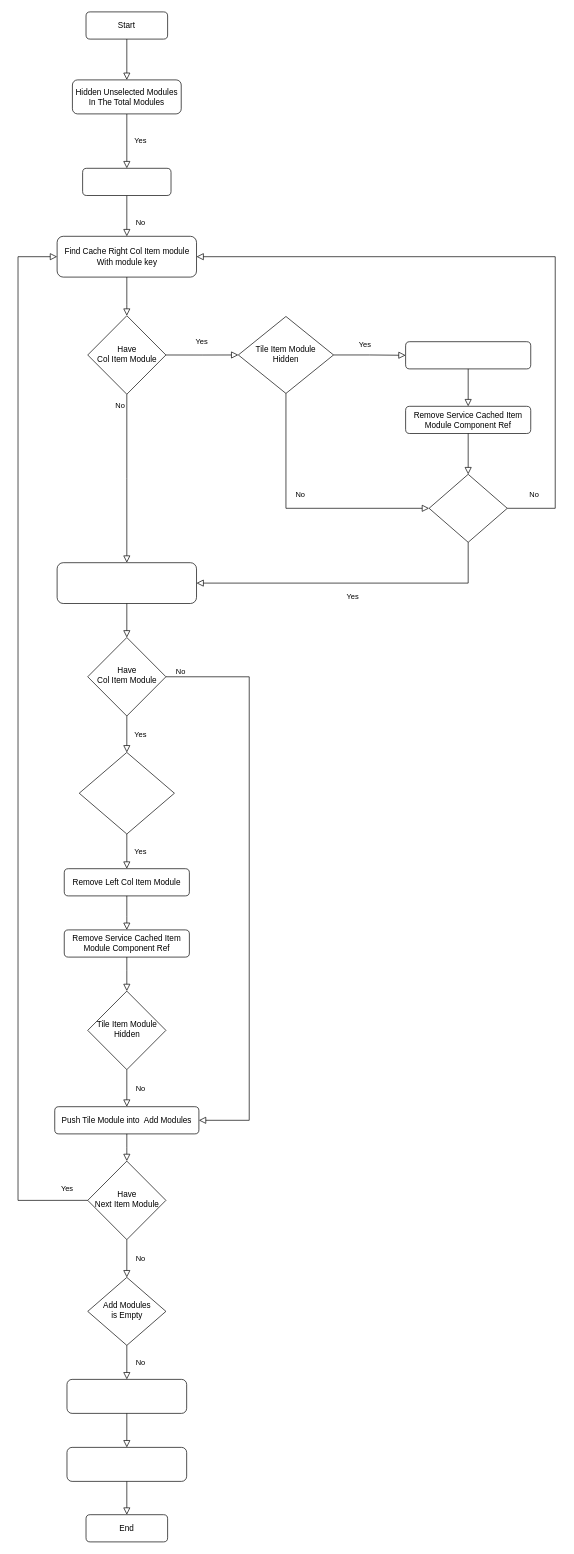
Some shapes in this 574 by 1554 pixel diagram are drawn without their labels. Each missing label, with the centre of its shape:
"Filter Hidden Item Modules" belongs at (126,1464).
"Find Cache Left Col Item module With module key" belongs at (126,583).
"Get Next Item Module" belongs at (126,182).
"Push Add Modules into the top of Left Col Config" belongs at (126,1396).
"Remove Right Col Item Module" belongs at (468,355).
"Right Col Item Module Hidden" belongs at (467,508).
"Tile Item Module or Col Item Hidden" belongs at (126,793).
